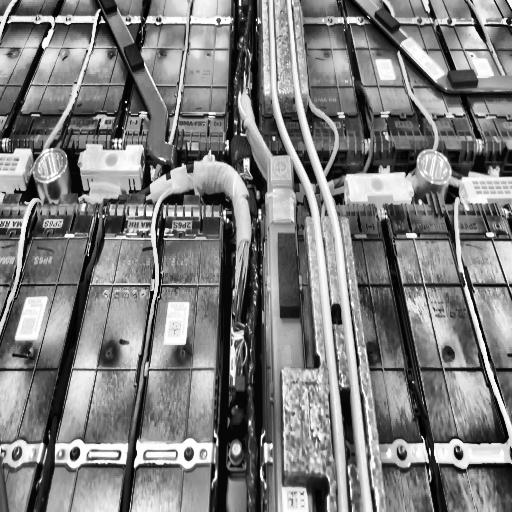busbar: (355, 0, 512, 93), (95, 0, 178, 166)
high_volt_cable: (343, 54, 512, 455), (116, 154, 255, 512), (286, 0, 374, 512), (267, 0, 353, 512), (0, 0, 101, 351), (453, 193, 512, 436)
nut: (227, 438, 245, 465), (10, 442, 24, 464), (453, 438, 465, 463), (69, 443, 81, 467), (394, 442, 408, 460), (183, 445, 195, 464)
